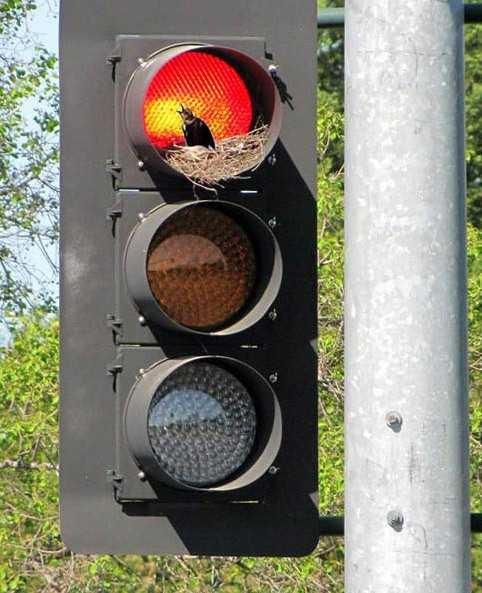red: (69, 1, 301, 550), (103, 34, 283, 194)
